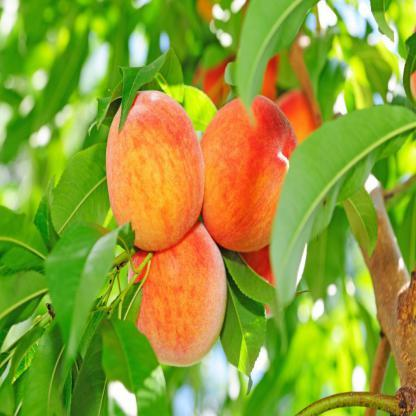Peach leaf: (116, 43, 191, 135), (102, 314, 168, 416), (220, 274, 268, 400), (52, 136, 106, 235), (342, 188, 380, 259)
